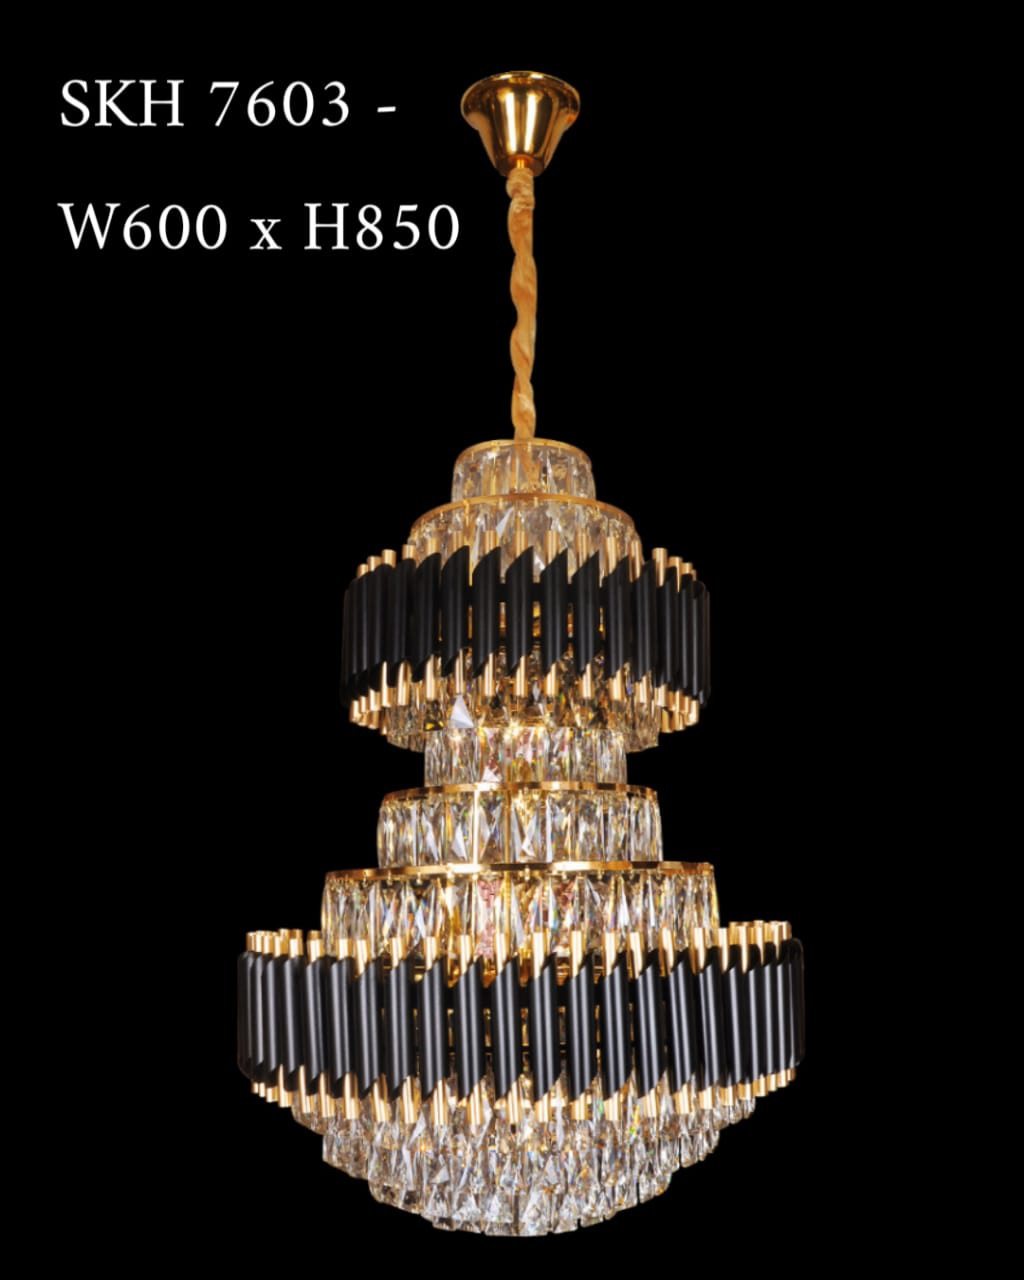lampu: (236, 59, 801, 1234)
